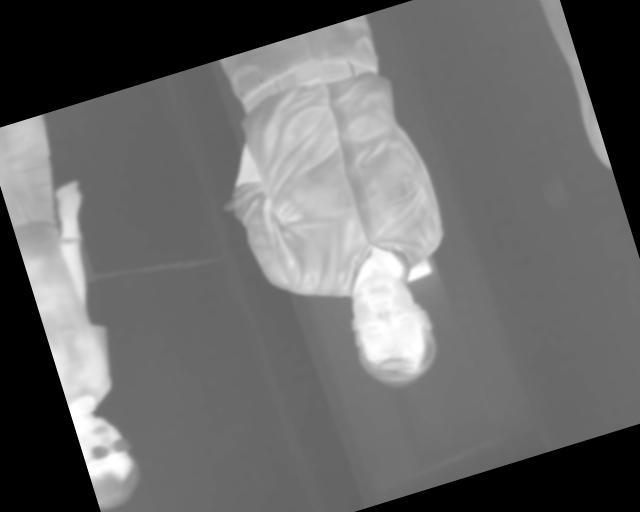face: (332, 257, 447, 398), (74, 408, 146, 512)
